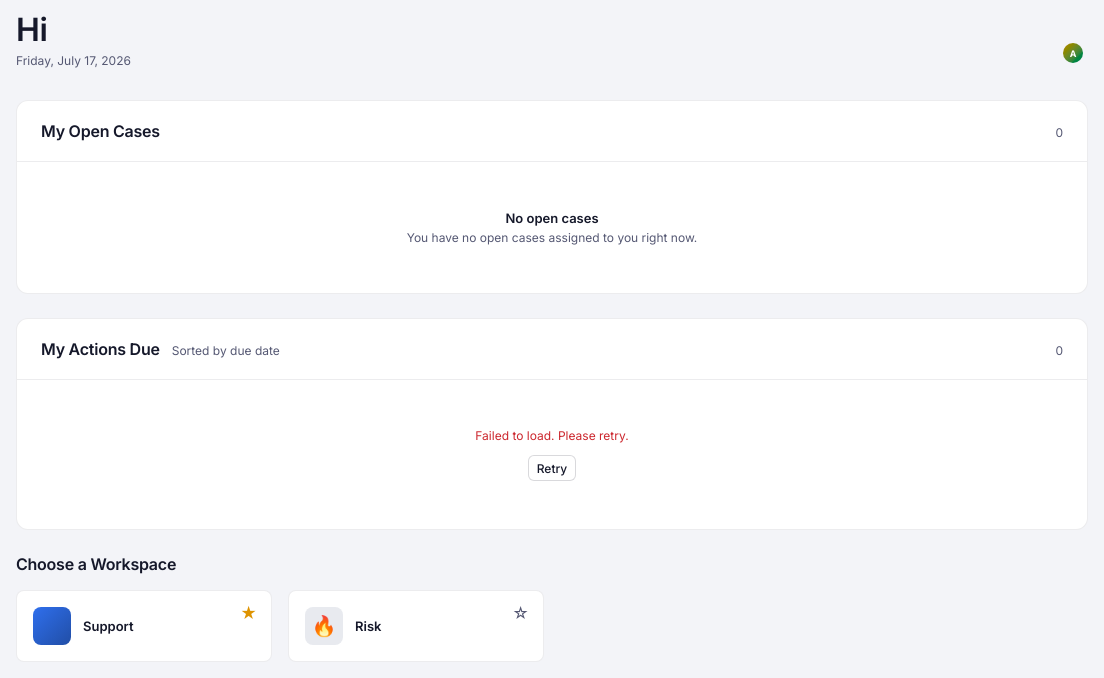
Test: Home › retries the due-actions query when the retry button is clicked after a failure
The width and height of the screenshot is (1104, 678).
Click the button "Retry".
click(552, 468)  # box 528,455 -> 576,481
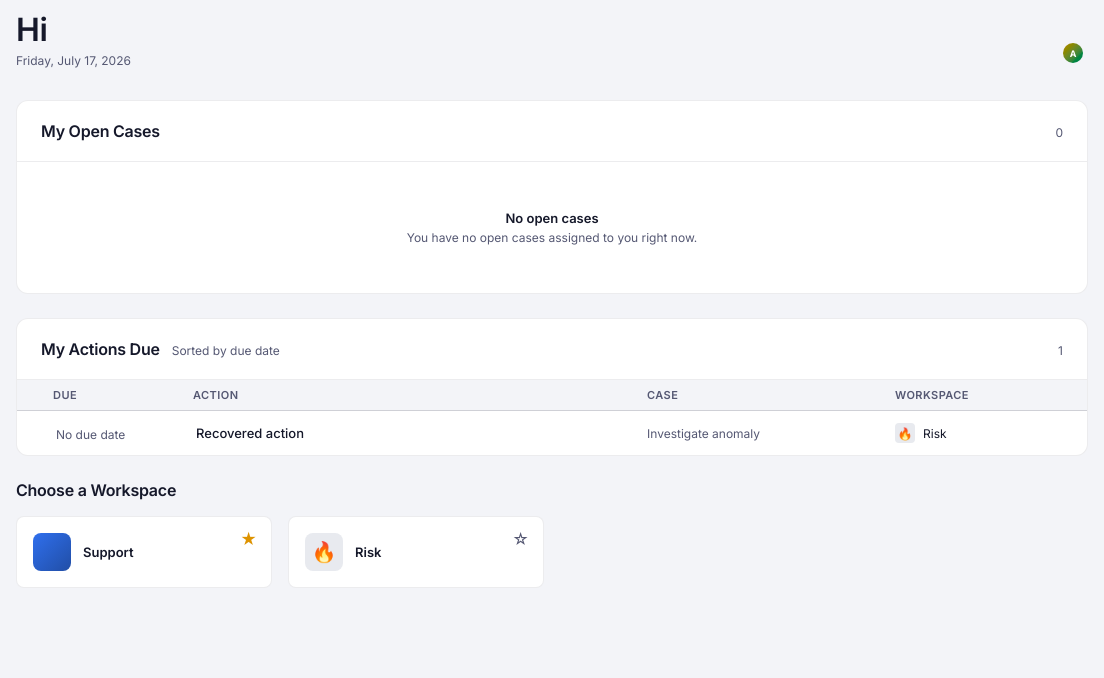
Check: the text "Recovered action" is shown, box 196,425 -> 304,441
